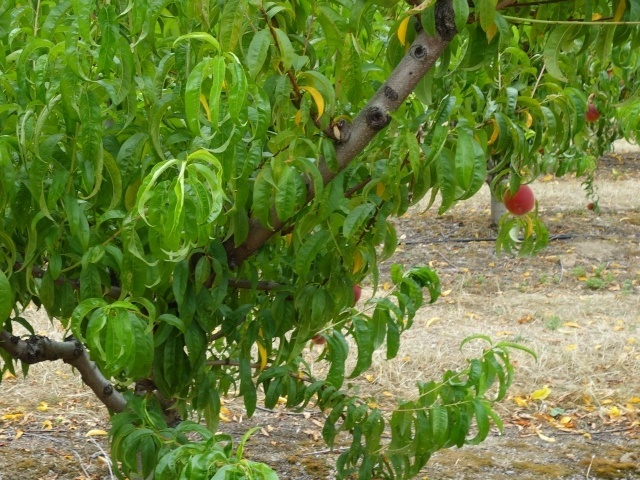peach: (501, 179, 536, 220), (581, 99, 604, 124), (347, 281, 365, 303), (310, 329, 329, 348)
